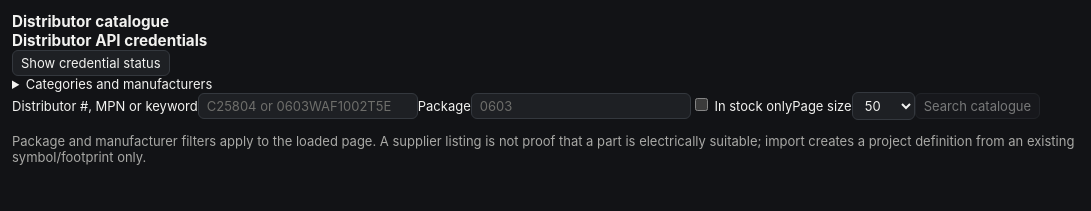
Test case: CataloguePanel › shows the reason and no rows when Distributor cannot be asked
Type "C25804" into the field labelled "Distributor #, MPN or keyword". click: (308, 106)
box: [198,93,418,119]
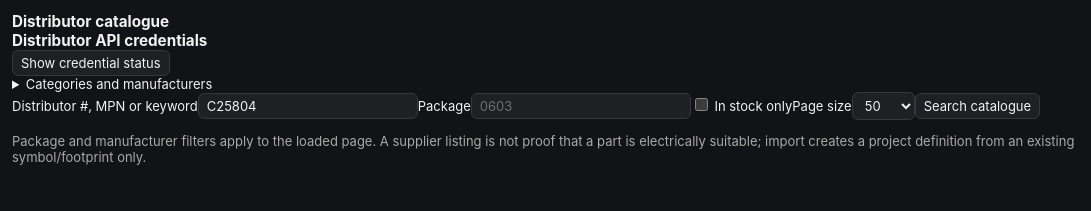
Click the button "Search catalogue". click: click(977, 106)
box: [915,93,1040,119]
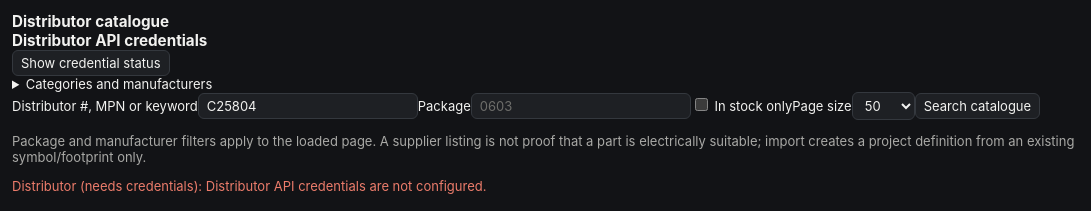
Now the text "needs credentials" is shown, box [85,178,194,194]
Now the text "Distributor API credentials are not configured" is shown, box [206,178,486,194]
